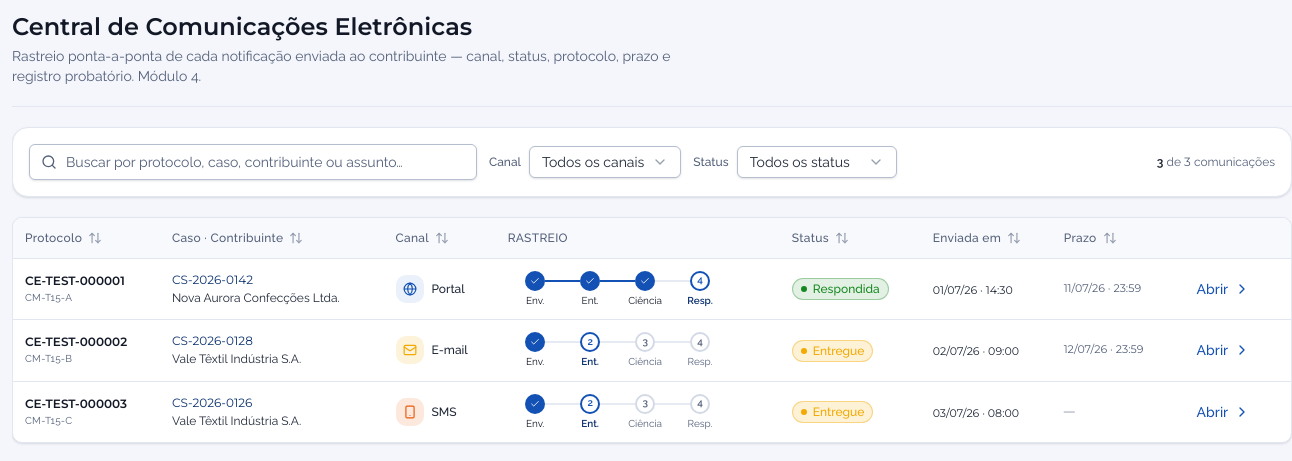
Test: ComunicacoesPage — smoke T15 › estado vazio (por filtro) aparece quando nada corresponde
Expected: the text "CE-TEST-000001" is shown, x1=25 y1=273 x2=125 y2=288
Step 1. Type "termo-inexistente" into the search field named "Buscar comunicações" → (253, 162), box x1=29 y1=144 x2=477 y2=180
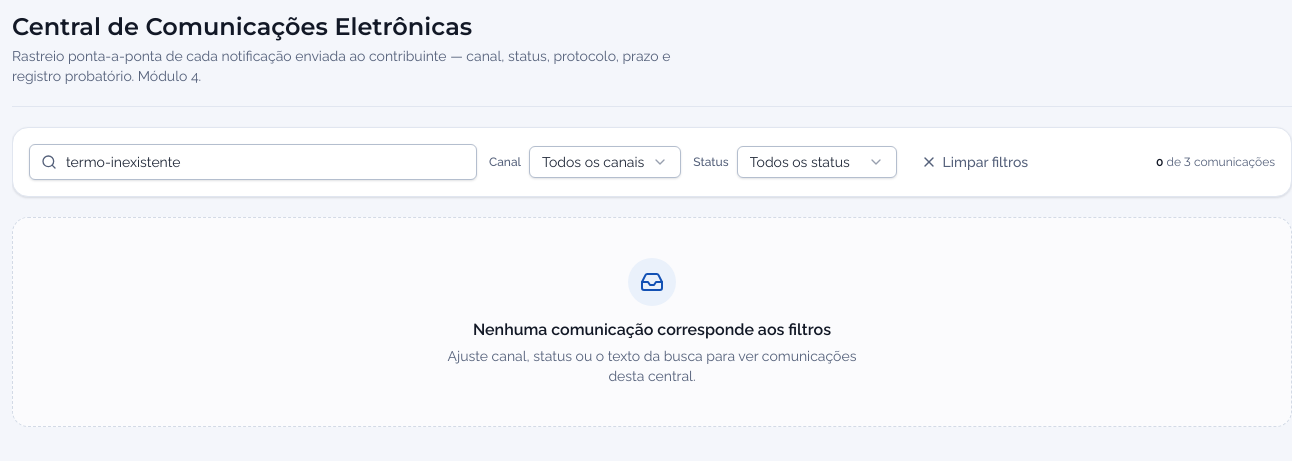
Expected: the heading "Nenhuma comunicação corresponde aos filtros" is shown, x1=473 y1=320 x2=831 y2=339
